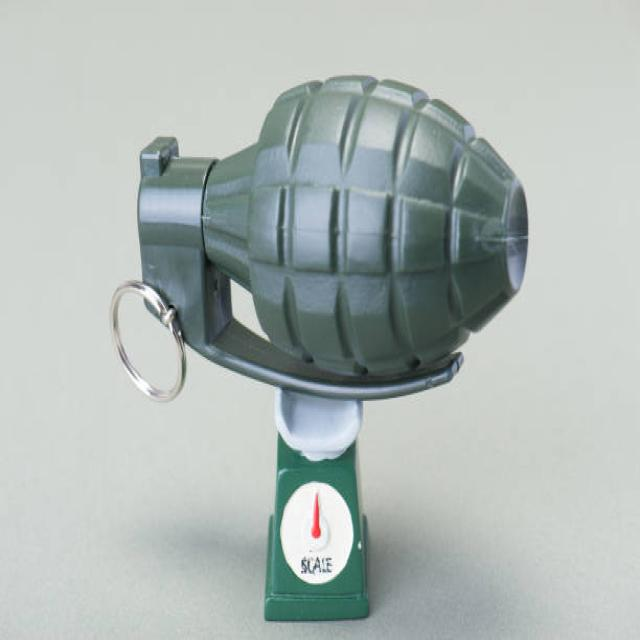grenade: (104, 71, 537, 408)
